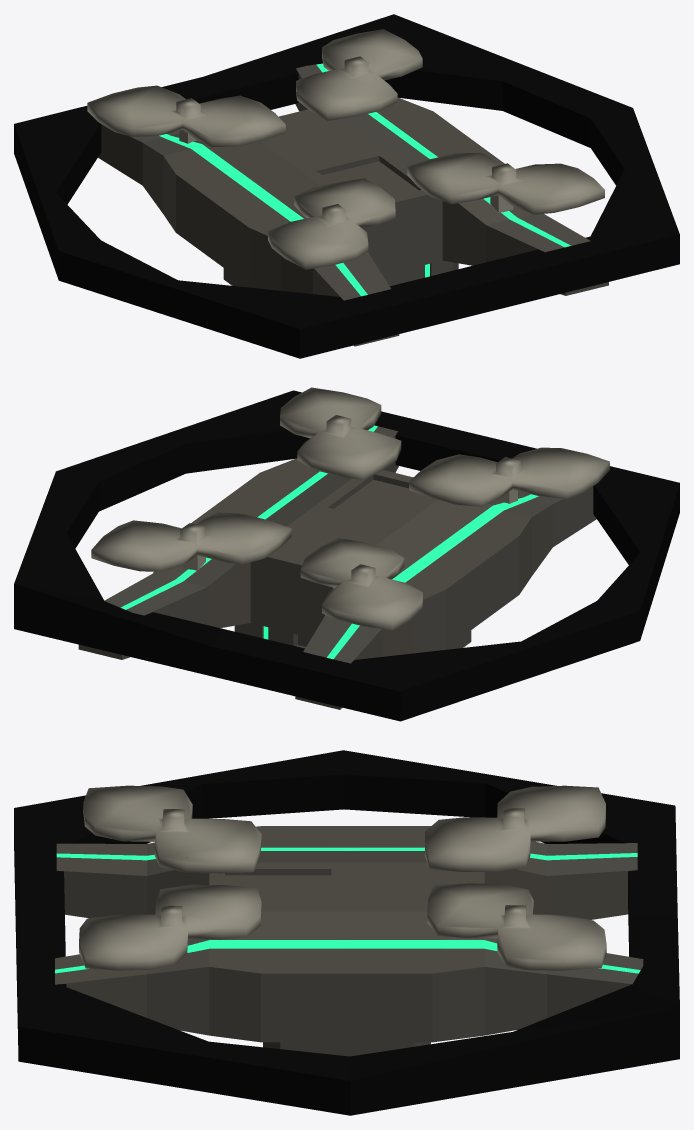
File: DRONES.fbx
3 renders of one model, top to bottom at view 1: azimuth 30°, elevation 25°; view 2: azimuth 150°, elevation 25°; view 3: azimuth 270°, elevation 25°, orthographic. The views are drawn at different scales.
Parts seen in each view (by area): view 1: Plane, Cube.001, Cube.004; view 2: Plane, Cube.001, Cube.004; view 3: Cube.001, Plane, Cube.004.
Part boxes in pixels (bbox=[...]): Plane: bbox=[14, 14, 679, 358]; Cube.001: bbox=[98, 63, 608, 346]; Cube.004: bbox=[87, 29, 604, 269]; Plane: bbox=[14, 390, 679, 721]; Cube.001: bbox=[78, 425, 596, 709]; Cube.004: bbox=[91, 387, 609, 630]; Cube.001: bbox=[55, 826, 643, 1056]; Plane: bbox=[14, 750, 679, 1115]; Cube.004: bbox=[79, 785, 606, 970].
Bounding box in the file's own units: 301 × 932 × 794.
